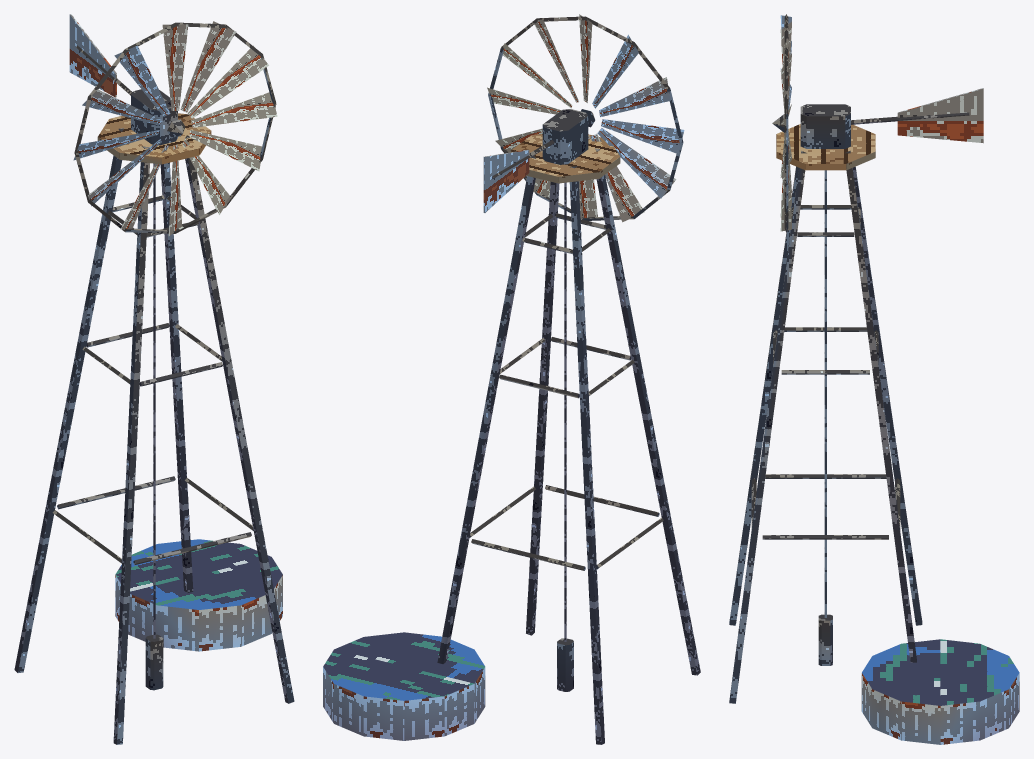
Rendered from wprop.windmill.glb.
3 renders of one model, left to right at view 1: azimuth 30°, elevation 25°; view 2: azimuth 150°, elevation 25°; view 3: azimuth 270°, elevation 25°, orthographic. The views are drawn at different scales.
Visible parts, largest first — view 1: kit_legs, kit_tank, kit_card_blades, kit_girts, kit_platform, kit_rim, kit_vane, kit_head, kit_rod, kit_pump; view 2: kit_legs, kit_tank, kit_card_blades, kit_girts, kit_platform, kit_head, kit_rim, kit_vane, kit_rod, kit_pump; view 3: kit_tank, kit_legs, kit_girts, kit_vane, kit_platform, kit_head, kit_card_blades, kit_rod, kit_rim, kit_pump, kit_tail_boom.
Part boxes in pixels (x1=…): kit_legs: x1=14, y1=128, x2=294, y2=744; kit_tank: x1=115, y1=539, x2=282, y2=651; kit_card_blades: x1=73, y1=21, x2=277, y2=235; kit_girts: x1=52, y1=195, x2=253, y2=564; kit_platform: x1=97, y1=113, x2=211, y2=164; kit_rim: x1=74, y1=22, x2=276, y2=233; kit_vane: x1=69, y1=14, x2=116, y2=97; kit_head: x1=131, y1=89, x2=177, y2=145; kit_rod: x1=153, y1=163, x2=155, y2=638; kit_pump: x1=145, y1=634, x2=163, y2=690; kit_legs: x1=437, y1=148, x2=700, y2=744; kit_tank: x1=323, y1=632, x2=485, y2=740; kit_card_blades: x1=487, y1=14, x2=684, y2=222; kit_girts: x1=469, y1=213, x2=663, y2=570; kit_platform: x1=510, y1=134, x2=620, y2=183; kit_head: x1=542, y1=109, x2=588, y2=164; kit_rim: x1=488, y1=16, x2=683, y2=220; kit_vane: x1=483, y1=149, x2=529, y2=212; kit_rod: x1=564, y1=182, x2=566, y2=641; kit_pump: x1=557, y1=638, x2=573, y2=691; kit_tank: x1=861, y1=639, x2=1019, y2=744; kit_legs: x1=729, y1=150, x2=922, y2=703; kit_girts: x1=751, y1=205, x2=900, y2=539; kit_vane: x1=897, y1=88, x2=983, y2=143; kit_platform: x1=776, y1=124, x2=875, y2=170; kit_head: x1=800, y1=104, x2=850, y2=148; kit_card_blades: x1=780, y1=15, x2=791, y2=231; kit_rod: x1=824, y1=170, x2=826, y2=617; kit_rim: x1=784, y1=14, x2=788, y2=232; kit_pump: x1=818, y1=614, x2=832, y2=665; kit_tail_boom: x1=851, y1=112, x2=969, y2=124.
Size of the model in its own units: 4.23 by 9.84 by 4.05.
5 materials, 5 textured.
